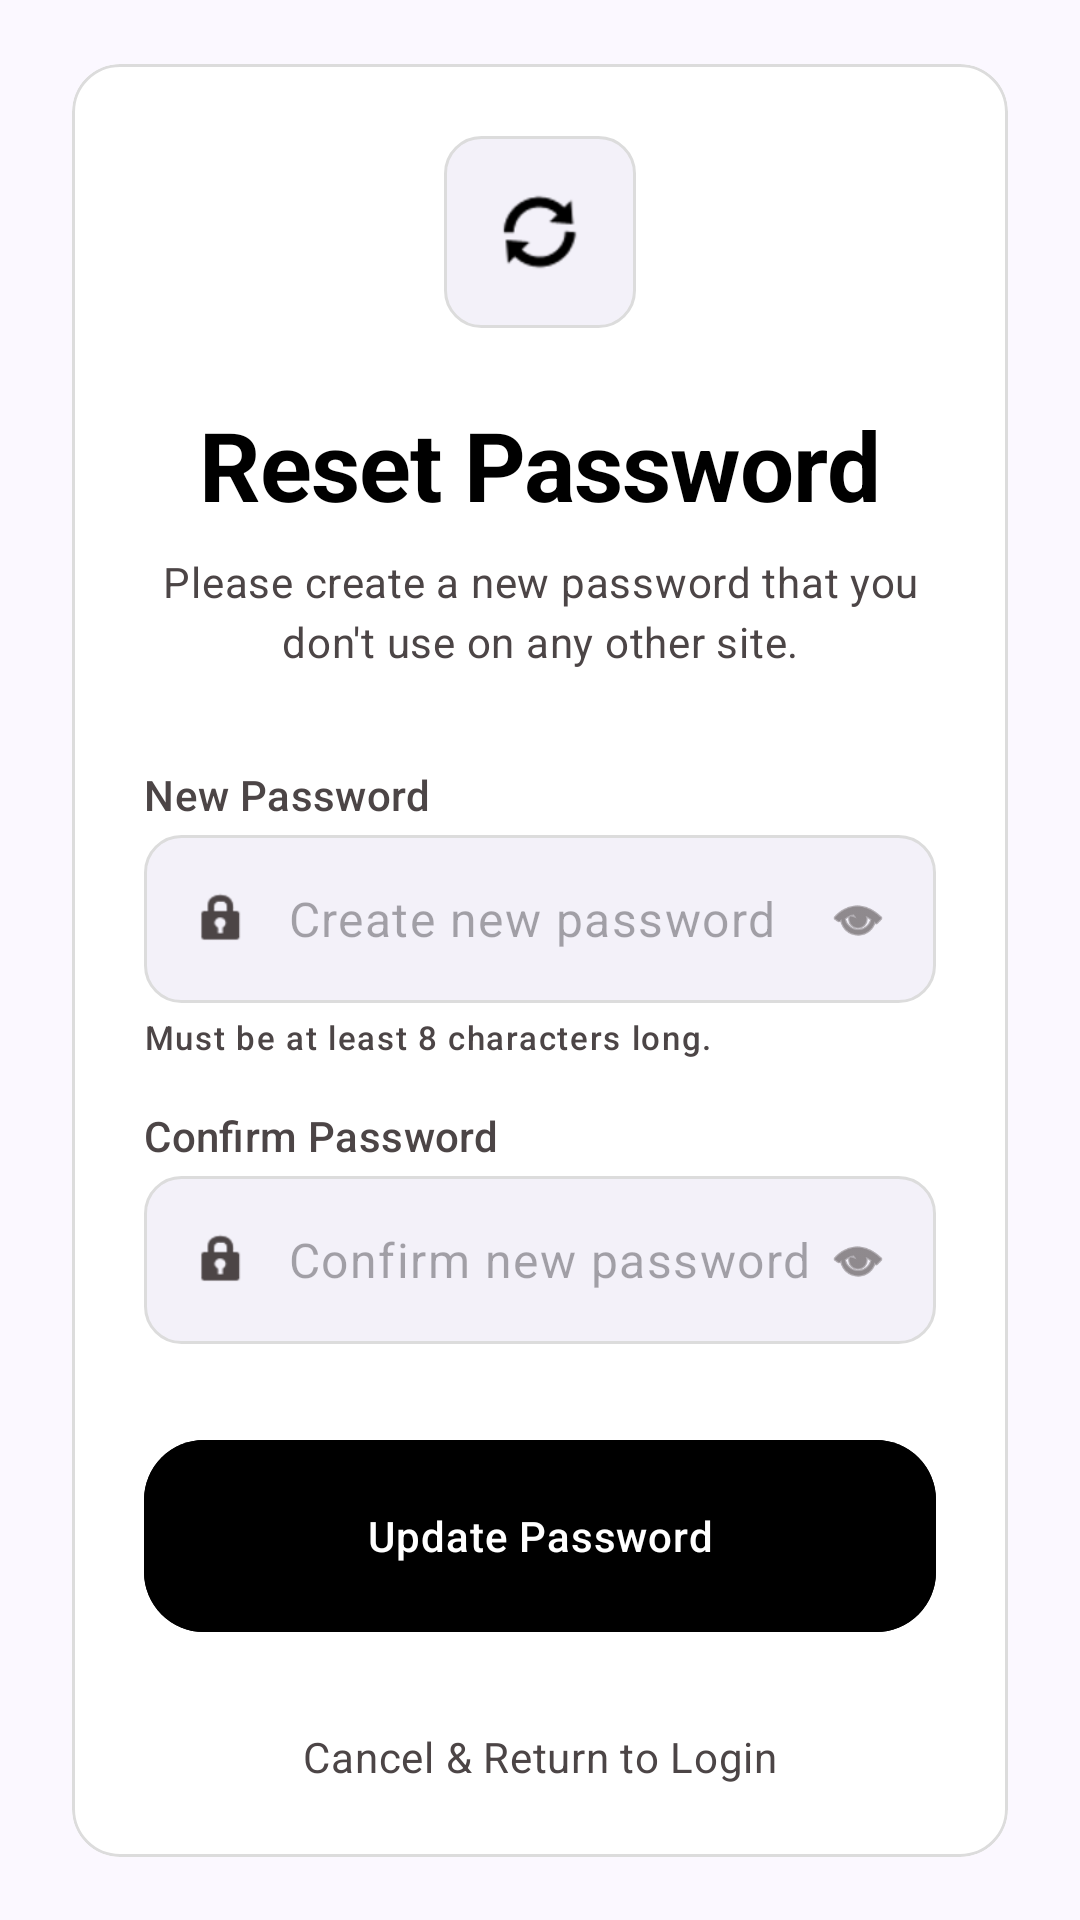

Screen size 1080px×1920px. Icon name, then its center in pixels as (x,y):
lock idle: (220,917), (220,1258)
popup sync: (540,232)
view: (858,920), (858,1261)
